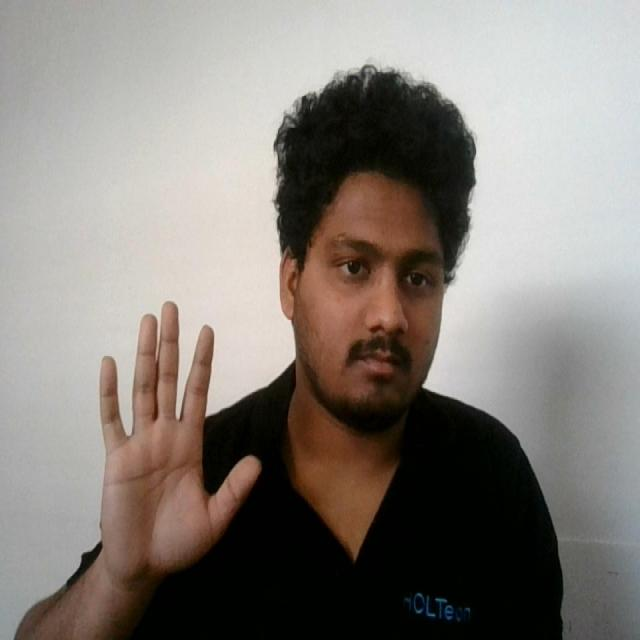Hello: (93, 293, 267, 597)
